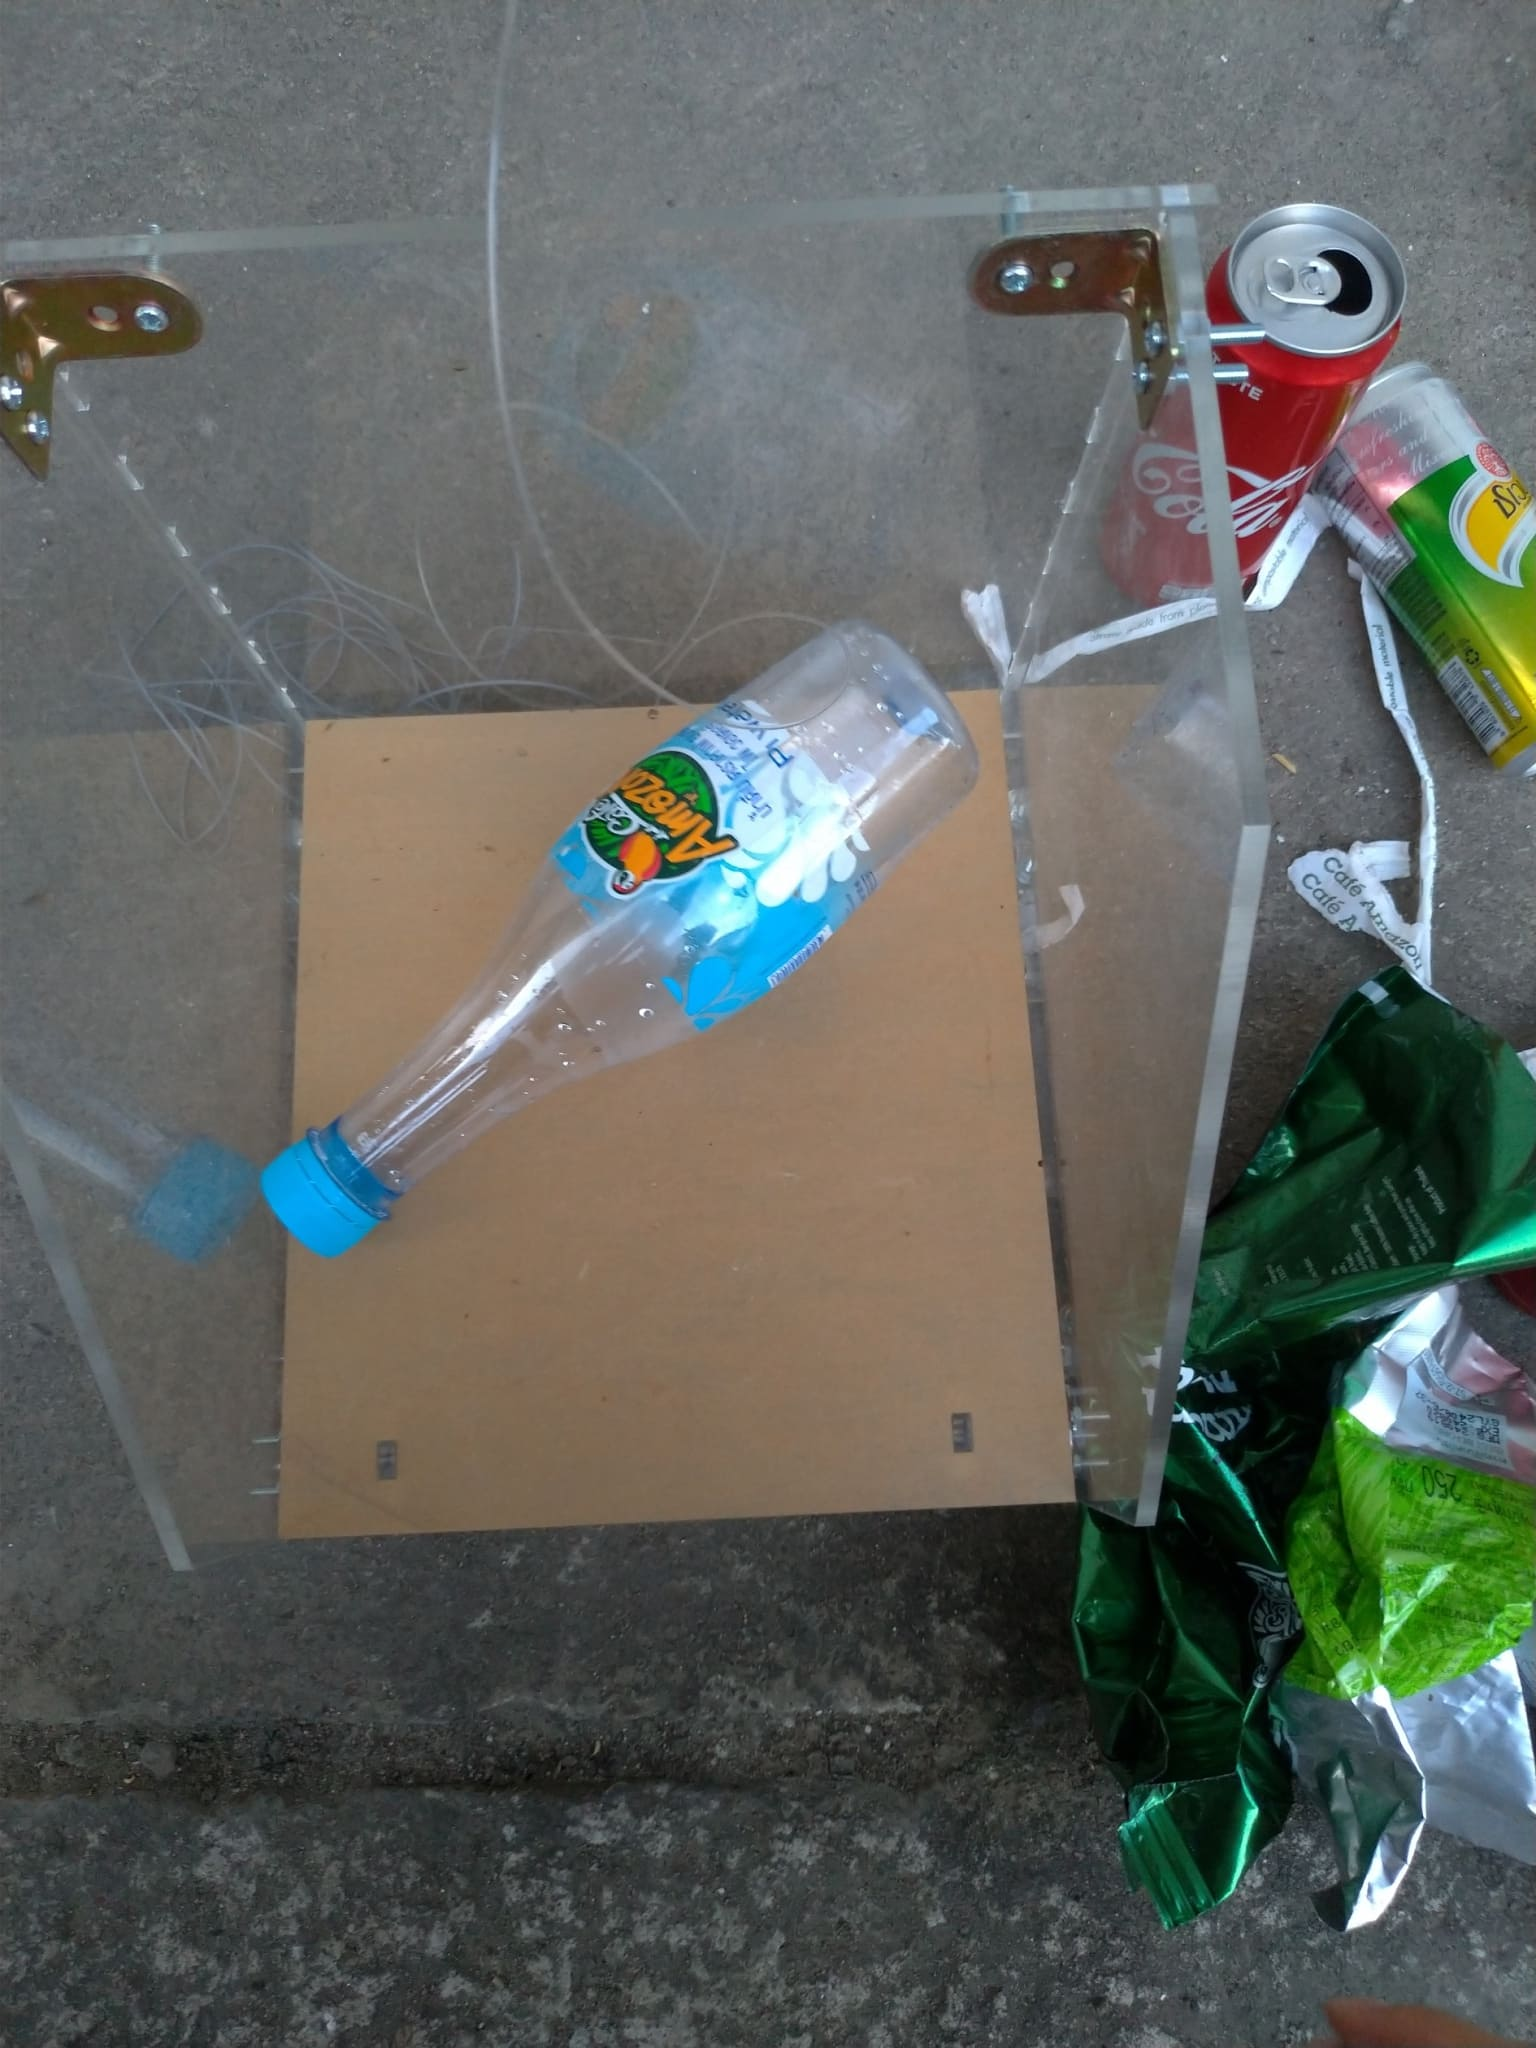AlCan: (1091, 203, 1405, 603), (1325, 348, 1530, 771)
Others: (1096, 974, 1536, 1929), (1288, 1287, 1534, 1935), (963, 490, 1329, 677), (1288, 568, 1438, 1000)
PlasticBottle: (265, 629, 983, 1264)
